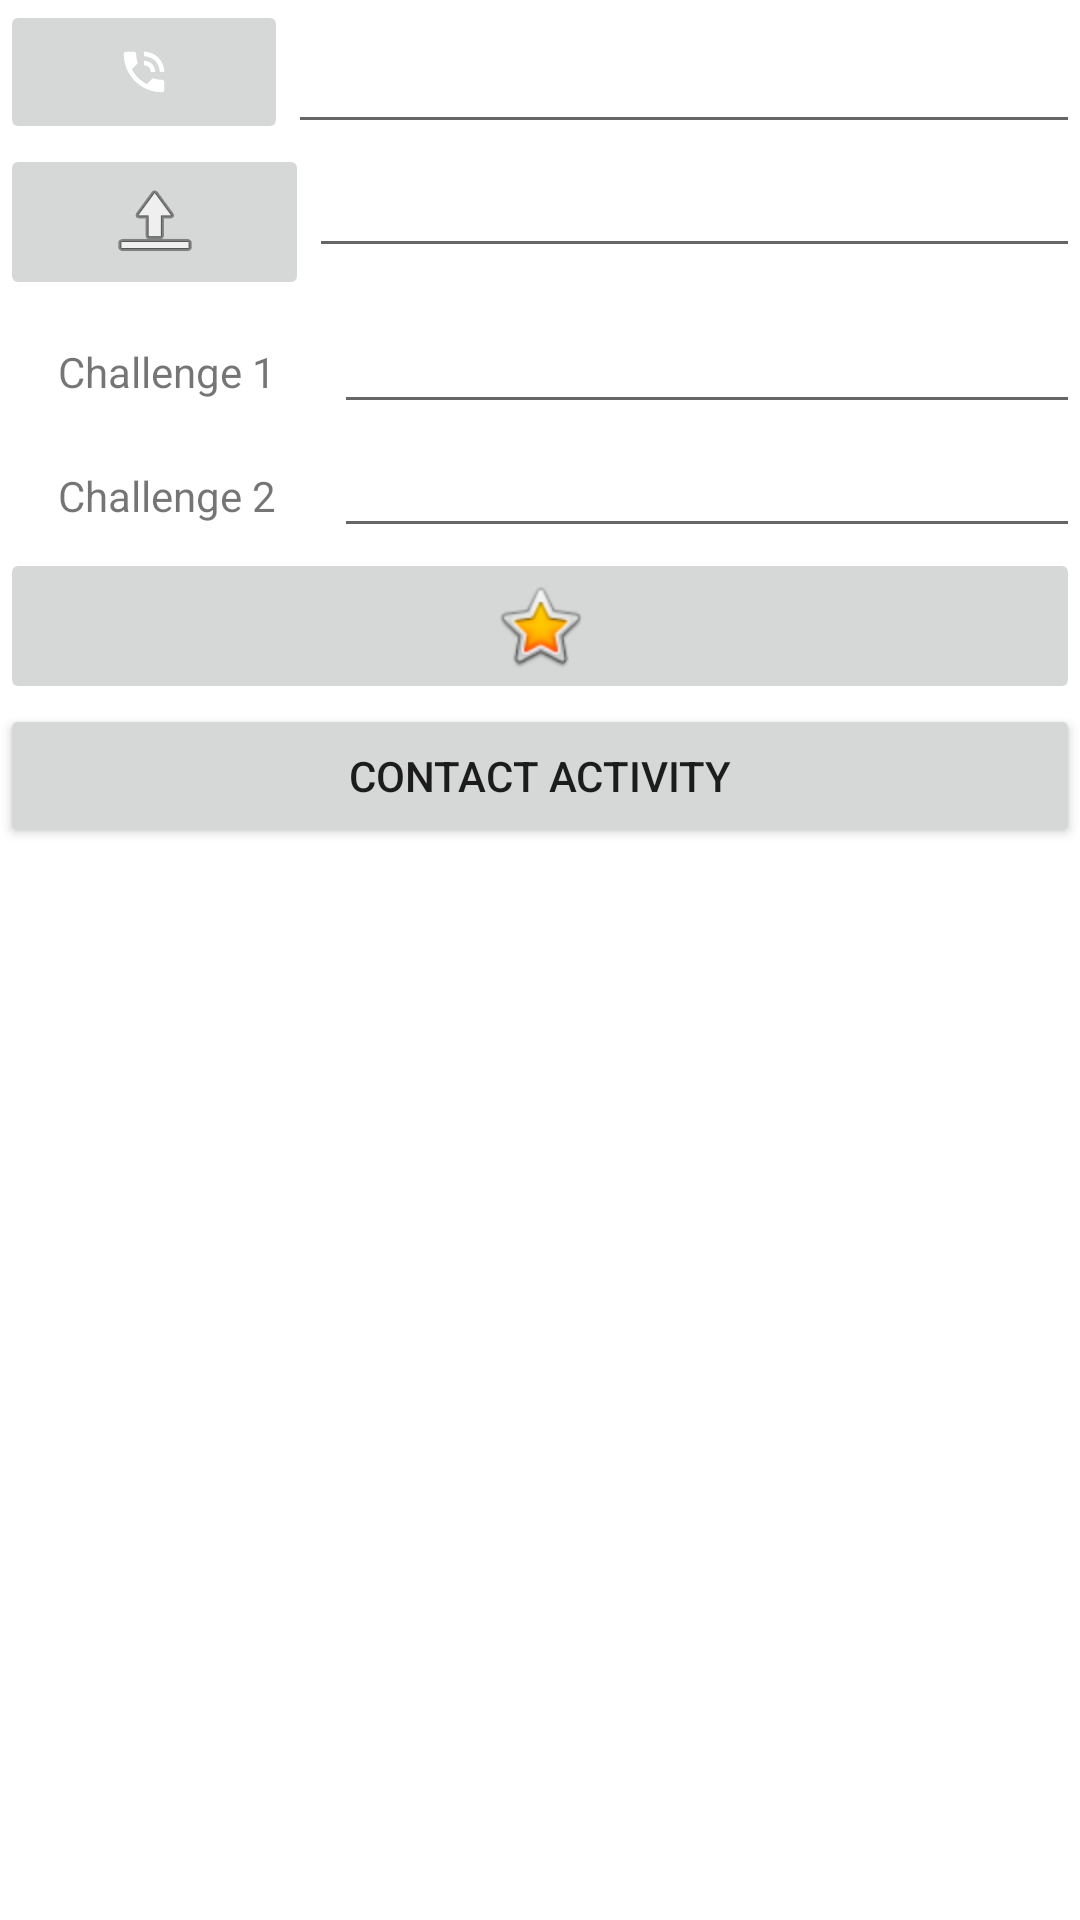

Point at icon controls on the screen. Image size 1080w x 1920h, points as [x,y].
upload: [154,222]
